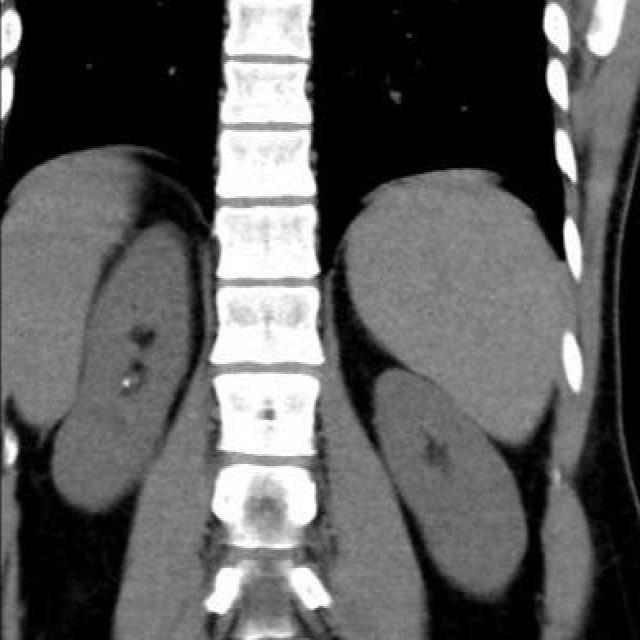Tas_Var: (120, 374, 130, 392)
